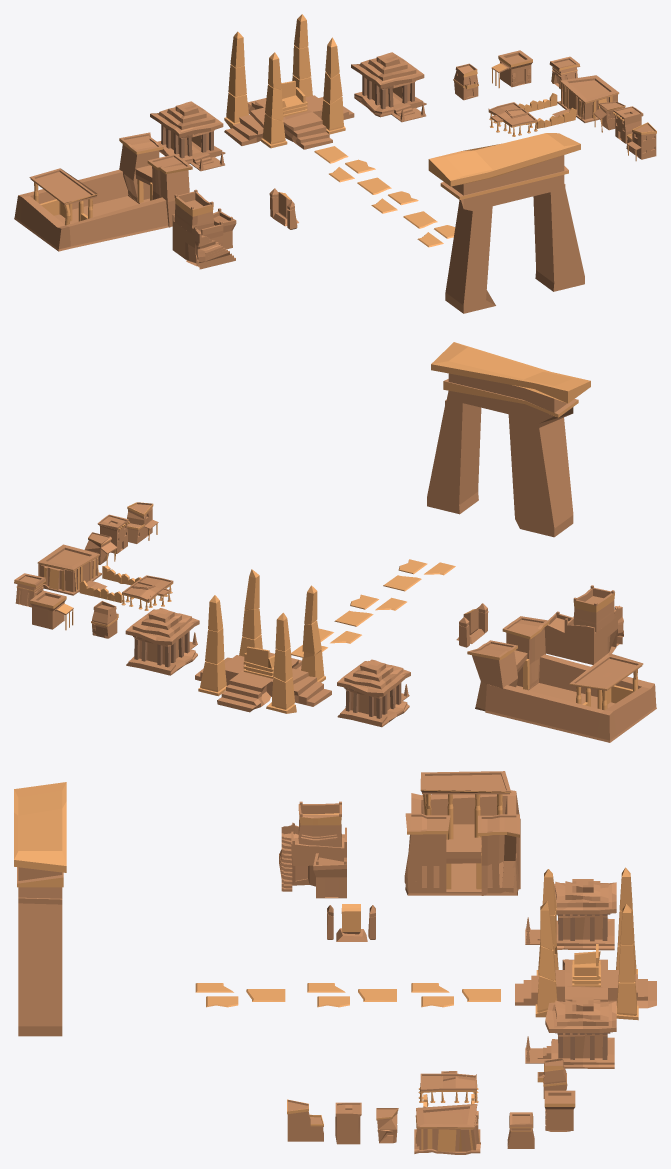
File: uploads_files_2620776_Egypt+Area.fbx
3 views of the same model, one above another, from view 1: azimuth 30°, elevation 25°; view 2: azimuth 150°, elevation 25°; view 3: azimuth 270°, elevation 25° (orthographic). The views are drawn at different scales.
Visible parts, largest first — view 1: door, body3, Pillar (×2), floor, Body, body, body4, body5, floor_tile, eGYPTo:House2, Pillar10, Pillar44 (+8 smaller); view 2: door, body3, Pillar (×2), Body, body4, floor, body, body5, floor_tile, eGYPTo:House2, Pillar44, Pillar8 (+7 smaller); view 3: body3, door, Pillar (×2), Body, body4, body, body5, floor_tile, floor, sign_board, eGYPTo:House5, eGYPTo:House2 (+7 smaller).
Part boxes in pixels (box(x1,y1,x2,y2)): door: box(428, 133, 584, 313); body3: box(14, 132, 192, 251); Pillar (×2): box(224, 14, 414, 148); floor: box(224, 95, 354, 149); Body: box(172, 191, 236, 266); body: box(351, 52, 426, 117); body4: box(488, 75, 619, 127); body5: box(150, 101, 225, 165); floor_tile: box(314, 146, 455, 247); eGYPTo:House2: box(491, 50, 532, 88); Pillar10: box(174, 189, 235, 269); Pillar44: box(489, 93, 576, 136); door: box(427, 342, 590, 537); body3: box(467, 616, 656, 742); Pillar (×2): box(132, 569, 325, 713); Body: box(544, 587, 618, 664); body4: box(37, 544, 173, 602); floor: box(195, 652, 331, 712); body: box(125, 608, 199, 675); body5: box(337, 659, 410, 727); floor_tile: box(291, 559, 455, 657); eGYPTo:House2: box(30, 590, 73, 630); Pillar44: box(79, 565, 172, 610); Pillar8: box(523, 659, 637, 710); body3: box(404, 771, 520, 895); door: box(14, 782, 66, 1036); Pillar (×2): box(535, 867, 638, 1059); Body: box(291, 803, 346, 898); body4: box(414, 1071, 480, 1154); body: box(537, 997, 616, 1068); body5: box(537, 879, 616, 950); floor_tile: box(195, 983, 500, 1007); floor: box(515, 959, 656, 1008); sign_board: box(327, 904, 375, 941); eGYPTo:House5: box(287, 1099, 323, 1141); eGYPTo:House2: box(544, 1090, 575, 1131).
Size of the model in its own units: 273 by 68.11 by 223.
